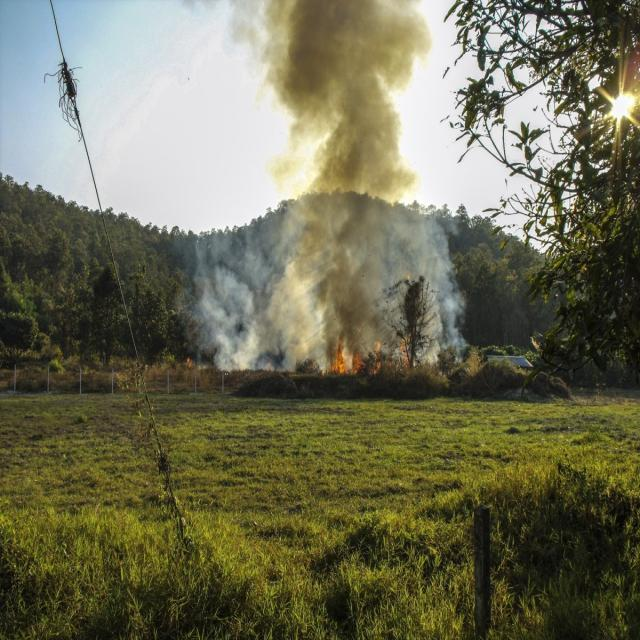Fire: (371, 341, 391, 379), (333, 351, 348, 373), (351, 349, 361, 372)
Smoke: (264, 4, 419, 210)
